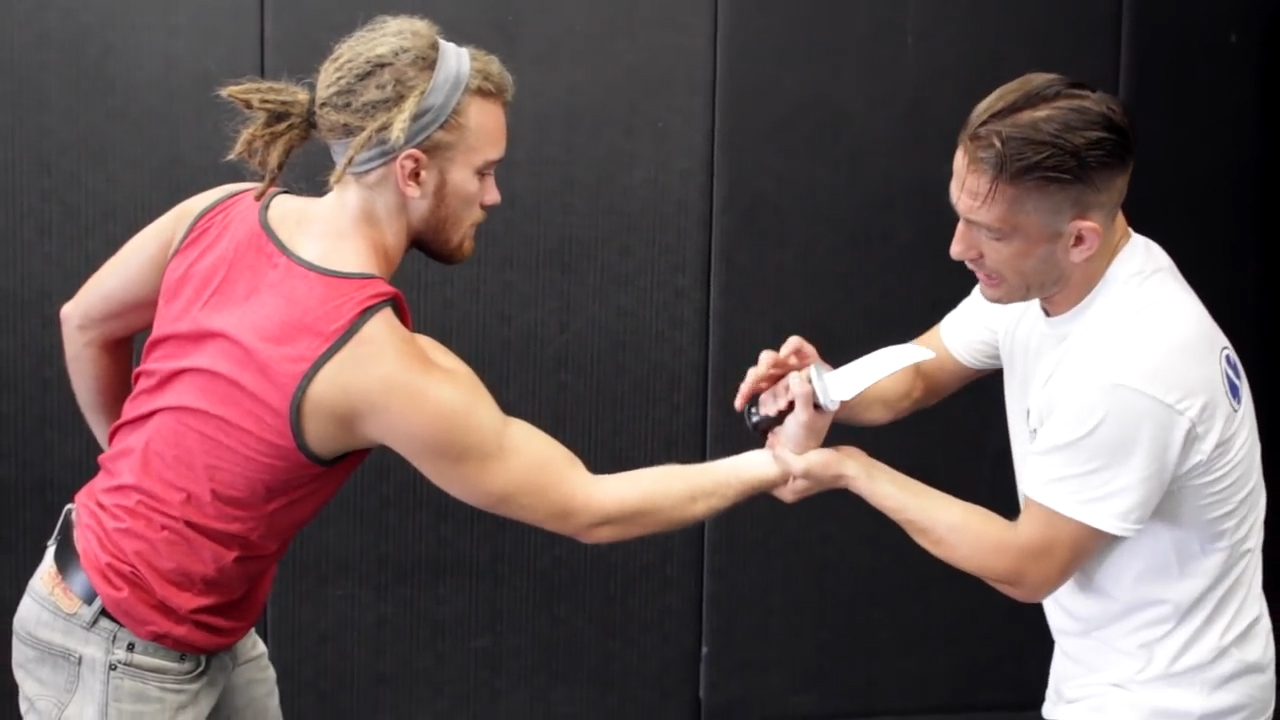knife: (740, 330, 947, 432)
